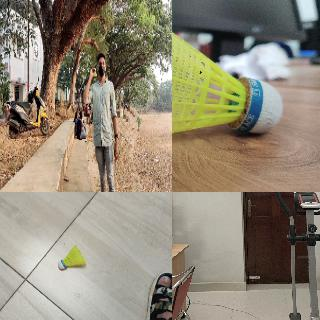shuttlecock: (172, 6, 283, 142), (57, 244, 85, 270), (94, 68, 96, 76)
